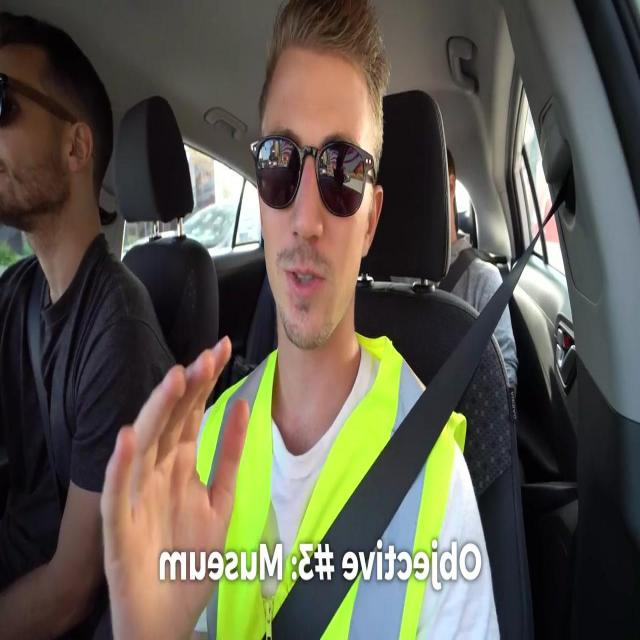Reflective-Jacket: (193, 339, 471, 636)
